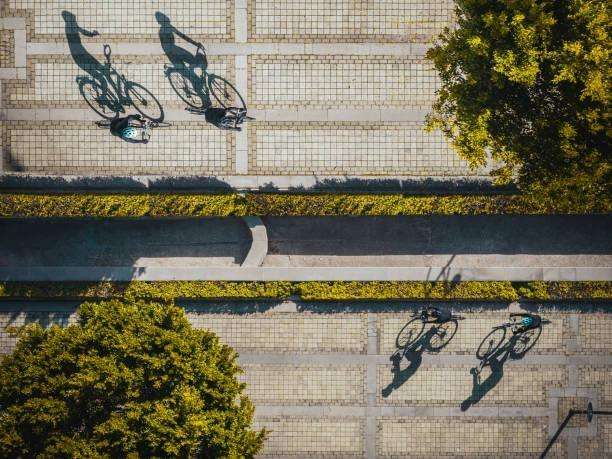Motorcycle: (93, 113, 172, 149), (192, 100, 262, 138), (411, 304, 471, 332), (494, 312, 552, 338)
